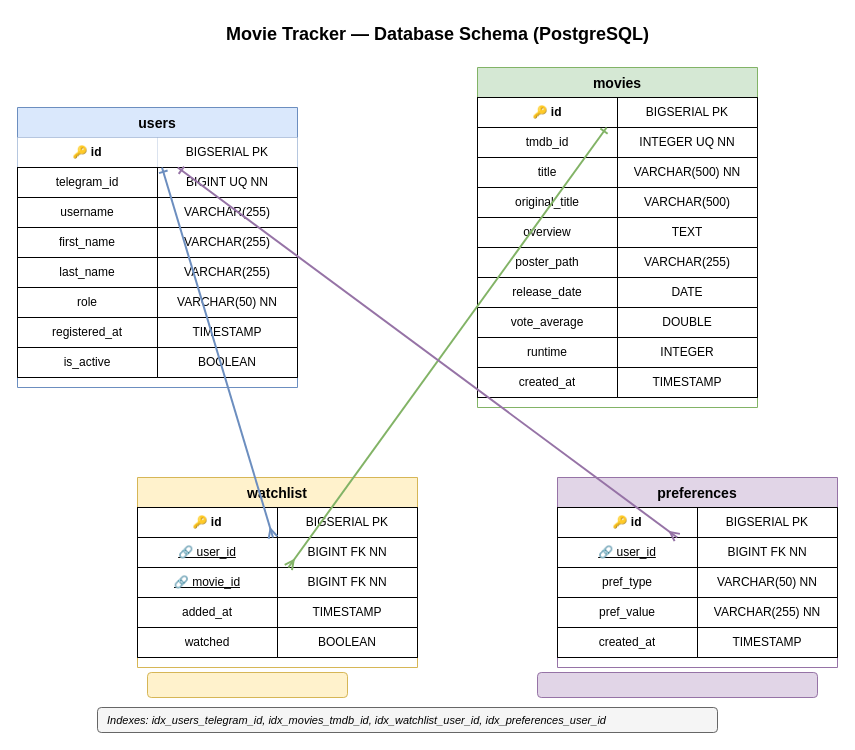
This 855x750 diagram has some shape labels left out. Here are the shapes that lost their labels. From the top down, the centre of each, then its label:
the point at 247,685: UNIQUE(user_id, movie_id)
the point at 677,685: UNIQUE(user_id, pref_type, pref_value)
